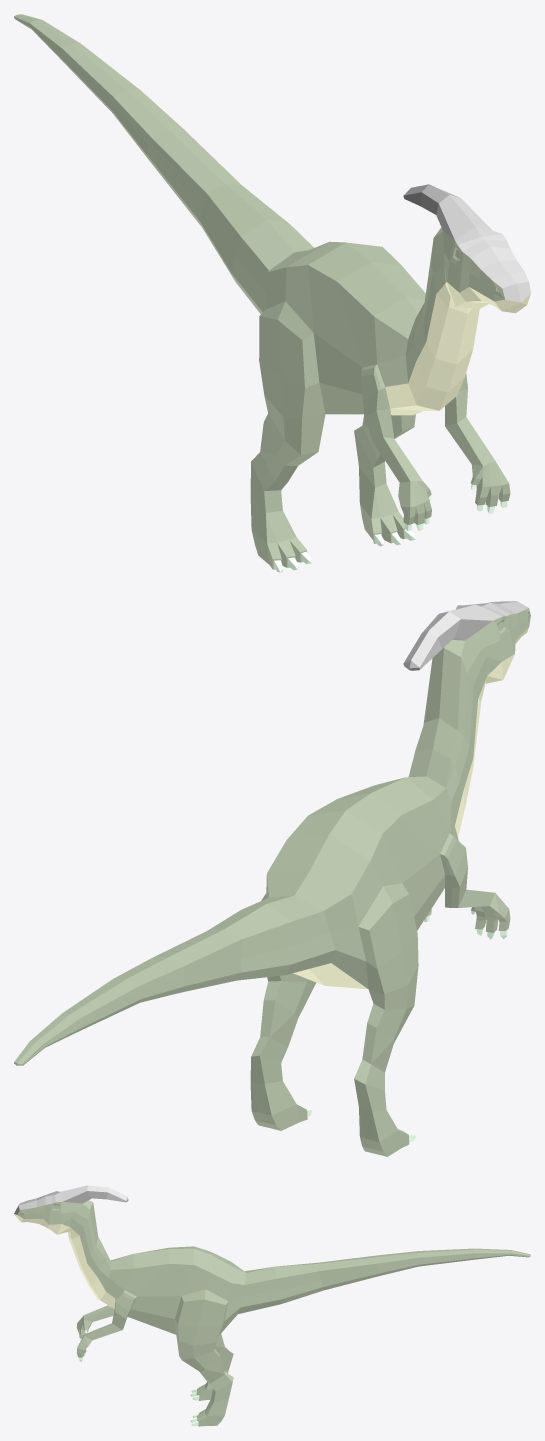
Rendered from Parasaurolophus.gltf.
3 views of the same model, one above another, from view 1: azimuth 30°, elevation 25°; view 2: azimuth 150°, elevation 25°; view 3: azimuth 270°, elevation 25° (orthographic). The views are drawn at different scales.
Parts seen in each view (by area): view 1: Parasaurolophus; view 2: Parasaurolophus; view 3: Parasaurolophus.
Part boxes in pixels (x1=…): Parasaurolophus: x1=14, y1=14, x2=530, y2=572; Parasaurolophus: x1=14, y1=601, x2=530, y2=1156; Parasaurolophus: x1=14, y1=1185, x2=530, y2=1426.
Bounding box in the file's own units: 195 × 598 × 1248.
